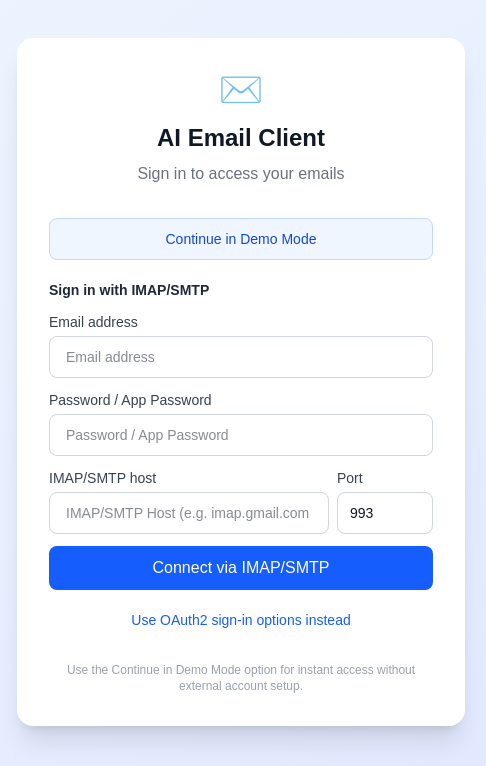
LoginPage › prefills SMTP host based on common email domains
Type "person@gmail.com" into the field labelled "Email address" at (241, 357), box [49,336,433,378]
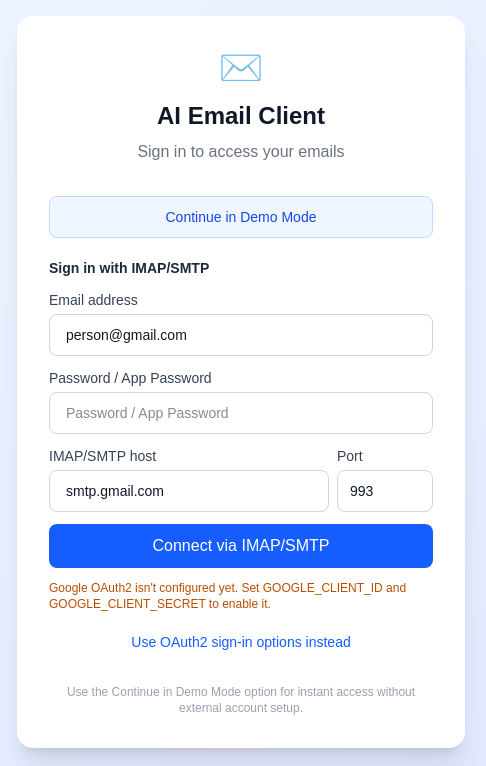
Expected: the field labelled "IMAP/SMTP host" holds "smtp.gmail.com", [49,470,329,512]
Replace the text in the field labelled "Email address" with "person@outlook.com" at (241, 335), box [49,314,433,356]
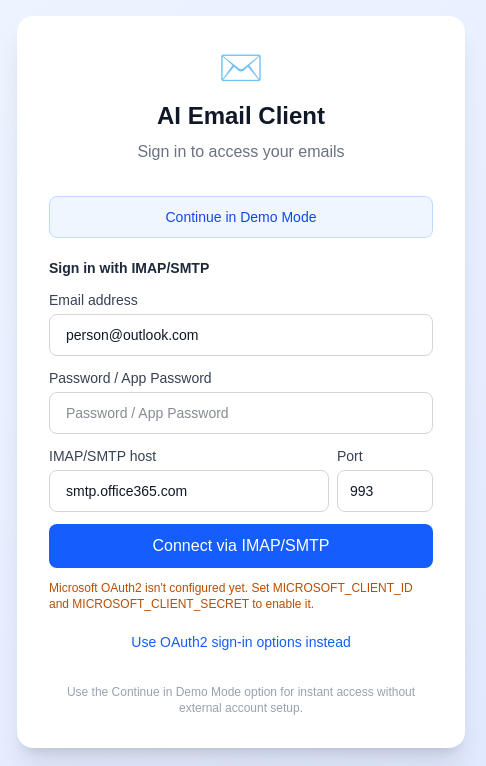
Expected: the field labelled "IMAP/SMTP host" holds "smtp.office365.com", [49,470,329,512]
Replace the text in the field labelled "Email address" with "person@aol.com" at (241, 335), box [49,314,433,356]
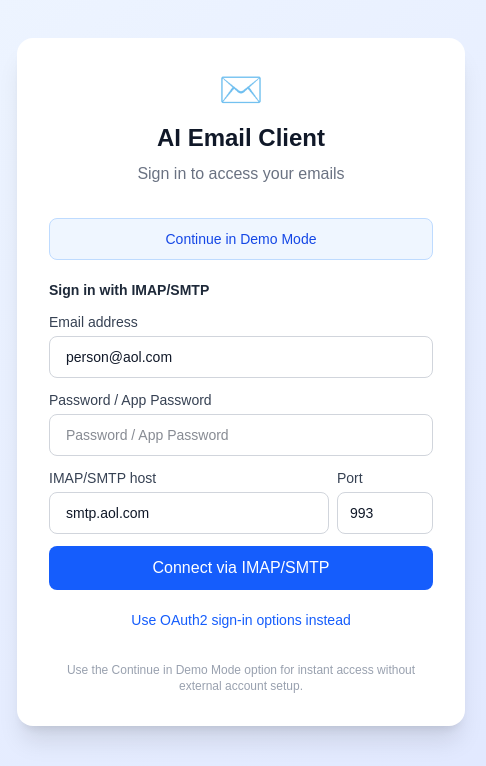
Expected: the field labelled "IMAP/SMTP host" holds "smtp.aol.com", [49,492,329,534]
